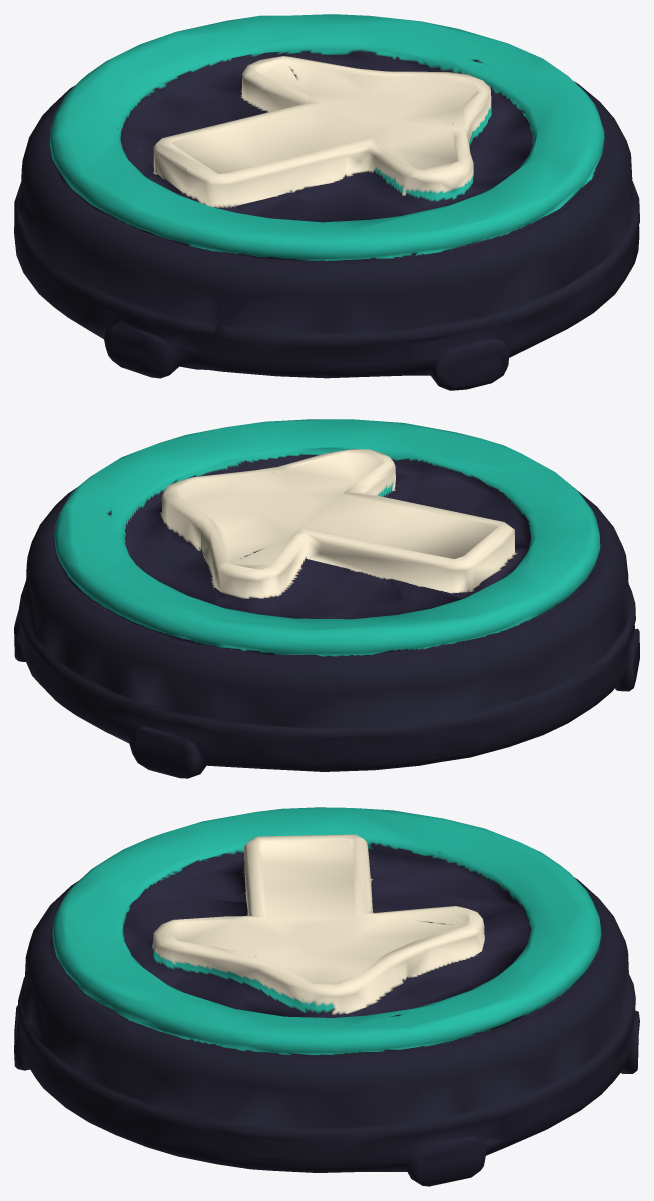
File: jump-pad.glb
3 views of the same model, one above another, from view 1: azimuth 30°, elevation 25°; view 2: azimuth 150°, elevation 25°; view 3: azimuth 270°, elevation 25° (orthographic).
Visible parts, largest first — view 1: tripo_node_138495f4-fb1b-4108-a7f9-6c91fa4e81b6; view 2: tripo_node_138495f4-fb1b-4108-a7f9-6c91fa4e81b6; view 3: tripo_node_138495f4-fb1b-4108-a7f9-6c91fa4e81b6.
Part boxes in pixels (<box>): tripo_node_138495f4-fb1b-4108-a7f9-6c91fa4e81b6: <box>14,14,639,390</box>; tripo_node_138495f4-fb1b-4108-a7f9-6c91fa4e81b6: <box>14,419,639,778</box>; tripo_node_138495f4-fb1b-4108-a7f9-6c91fa4e81b6: <box>14,807,639,1186</box>.
Bounding box in the file's own units: 1.02 × 0.2797 × 1.02.
1 material, 1 textured.
